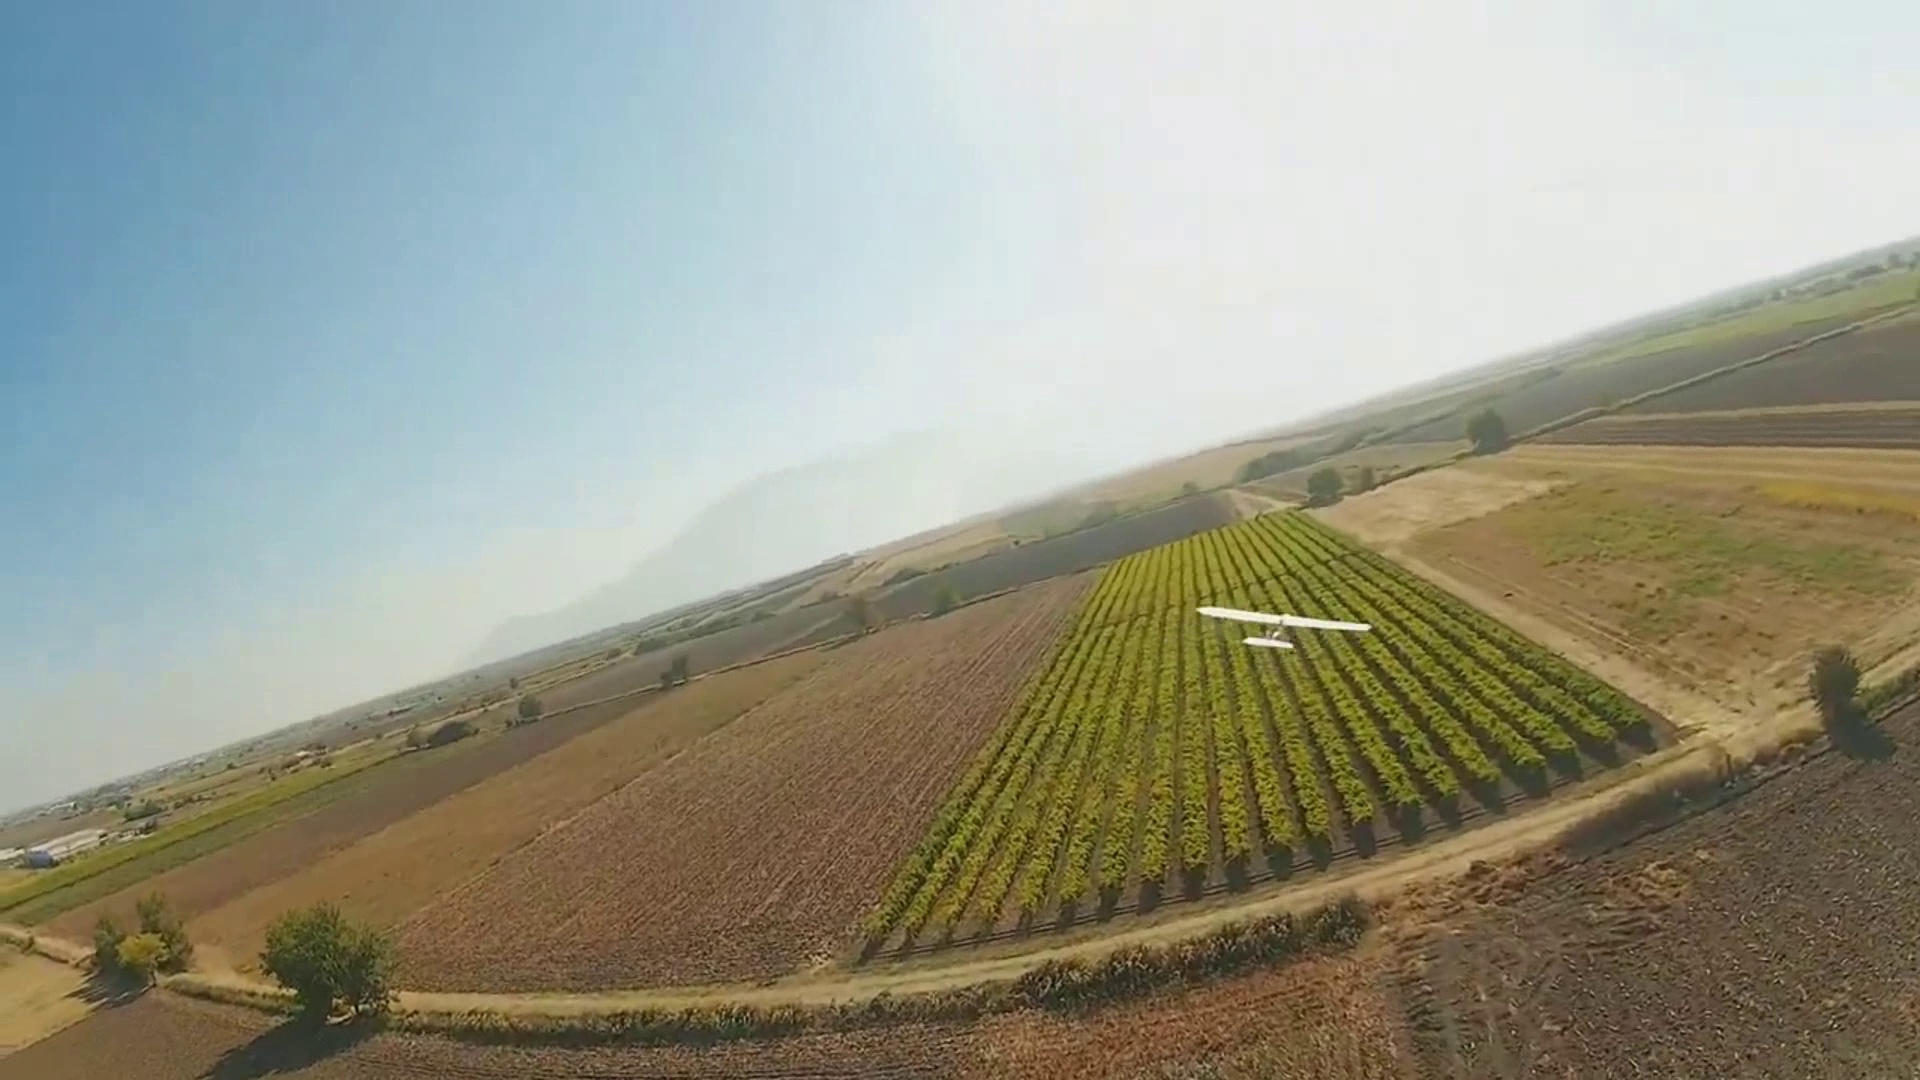airplane: (65, 233, 1919, 810)
